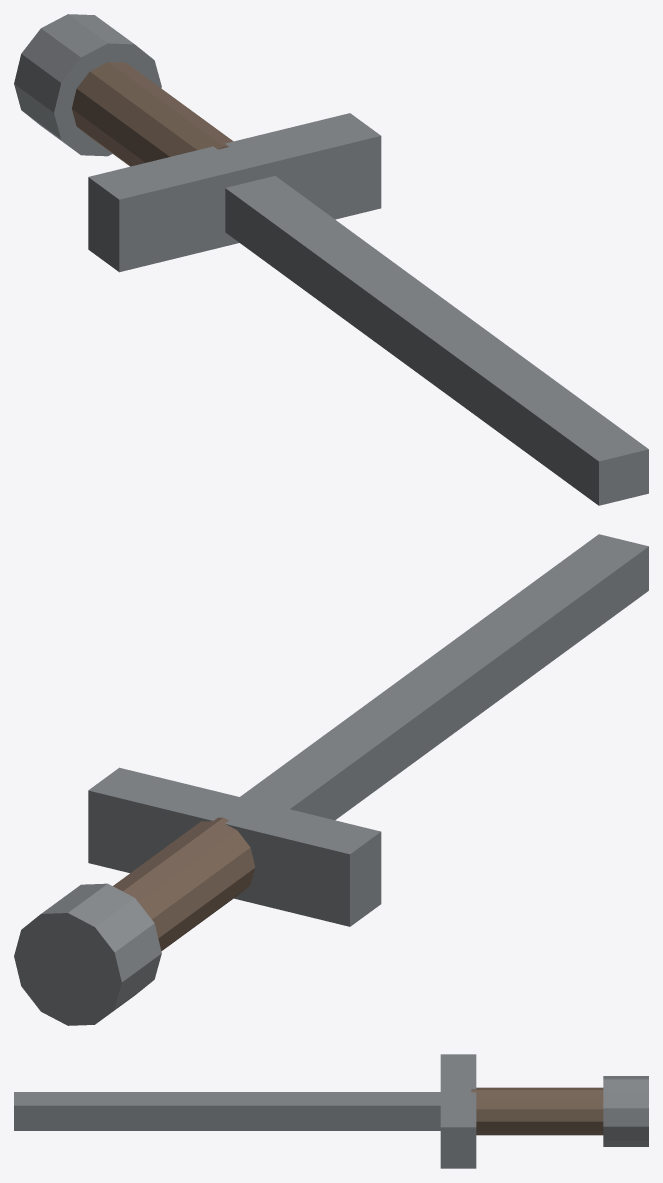
File: SM_IronSword.glb
3 views of the same model, one above another, from view 1: azimuth 30°, elevation 25°; view 2: azimuth 150°, elevation 25°; view 3: azimuth 270°, elevation 25° (orthographic). The views are drawn at different scales.
Parts seen in each view (by area): view 1: SM_IronSword_003, SM_IronSword_002, SM_IronSword_001, SM_IronSword_000; view 2: SM_IronSword_003, SM_IronSword_002, SM_IronSword_000, SM_IronSword_001; view 3: SM_IronSword_003, SM_IronSword_001, SM_IronSword_002, SM_IronSword_000.
Boxes of the visible parts, left/top/right/bottom form: SM_IronSword_003: left=225, top=176, right=648, bottom=505; SM_IronSword_002: left=88, top=113, right=381, bottom=272; SM_IronSword_001: left=71, top=62, right=233, bottom=166; SM_IronSword_000: left=14, top=14, right=161, bottom=156; SM_IronSword_003: left=240, top=534, right=648, bottom=820; SM_IronSword_002: left=88, top=767, right=381, bottom=926; SM_IronSword_000: left=14, top=883, right=161, bottom=1025; SM_IronSword_001: left=113, top=817, right=255, bottom=951; SM_IronSword_003: left=14, top=1092, right=440, bottom=1130; SM_IronSword_001: left=471, top=1087, right=603, bottom=1135; SM_IronSword_002: left=440, top=1054, right=476, bottom=1168; SM_IronSword_000: left=603, top=1076, right=648, bottom=1146.
Bounding box in the file's own units: 0.34 × 0.14 × 1.25.
